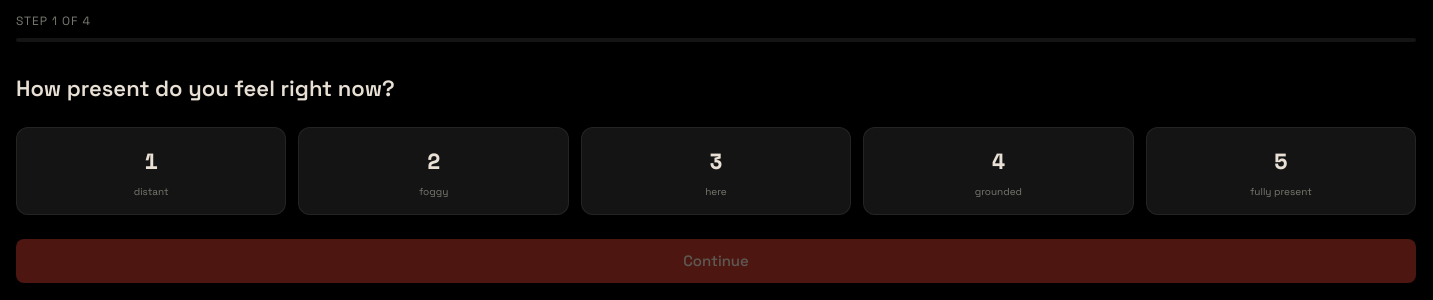
Test case: DailyCheckIn flow › selects a presence level and enables Continue
This screenshot has width=1433, height=300.
Expected: the heading "How present do you feel right now?" is shown, [16,74,395,102]
Click presence level 3
Click the button "3 here".
click(716, 171)  # box [581,127,851,215]
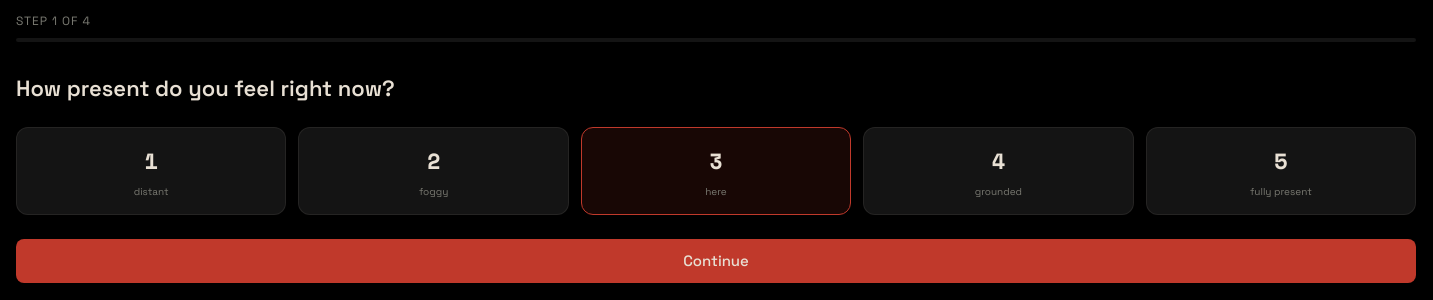
Expected: the button "Continue" is enabled, [16,239,1416,283]
